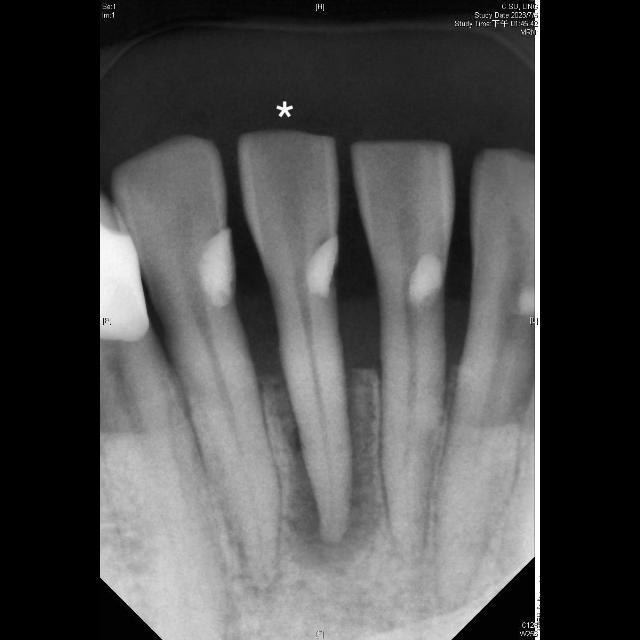test-segment: (239, 131, 351, 542)
